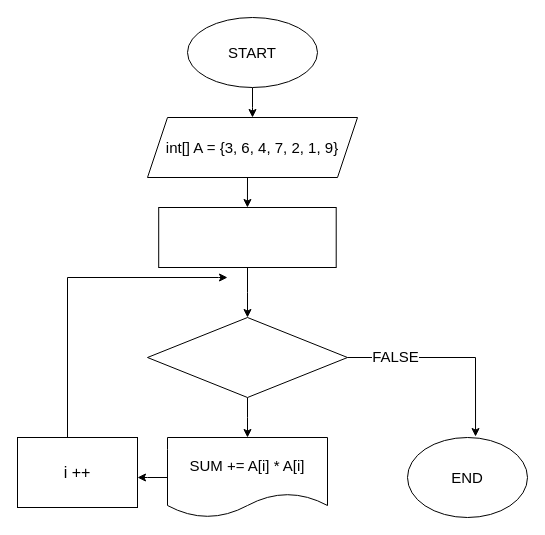
Some shapes in this 545 by 535 pixel diagram are drawn without their labels. Here are the shapes that lost their labels. From the top down, the box of each, then its label:
(158, 206, 336, 268): int SUM = 0
(146, 316, 348, 398): is i < A.length
